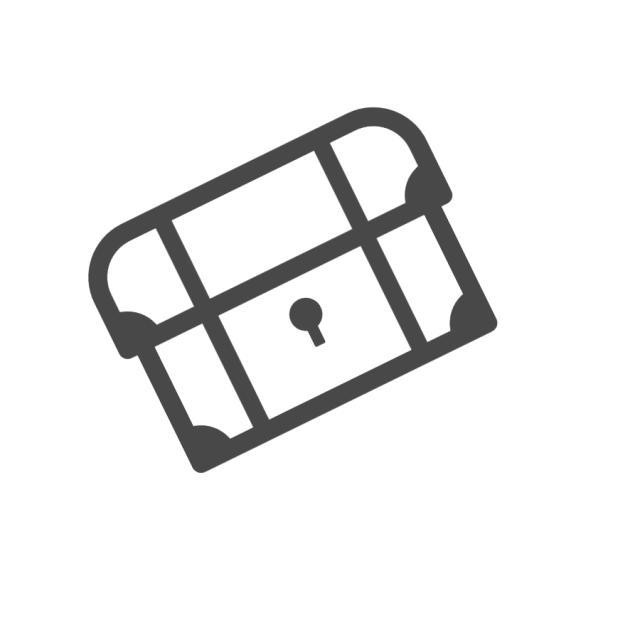treasure_box: (79, 103, 503, 484)
